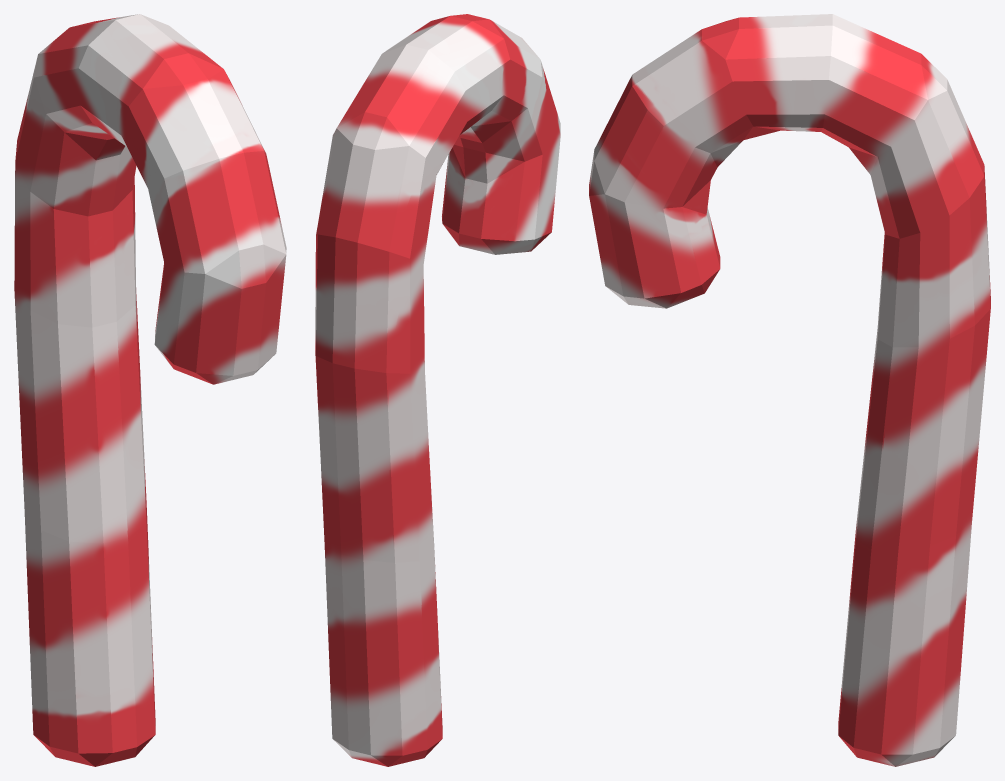
Rendered from candy.fbx.
The picture shows the model from 3 angles, left to right: view 1: azimuth 30°, elevation 25°; view 2: azimuth 150°, elevation 25°; view 3: azimuth 270°, elevation 25°; orthographic projection. The views are drawn at different scales.
Parts seen in each view (by area): view 1: candy; view 2: candy; view 3: candy.
Part boxes in pixels (<box>): candy: <box>14,14,286,766</box>; candy: <box>315,14,560,766</box>; candy: <box>589,14,990,766</box>.
Bounding box in the file's own units: 95.63 × 651 × 325.
